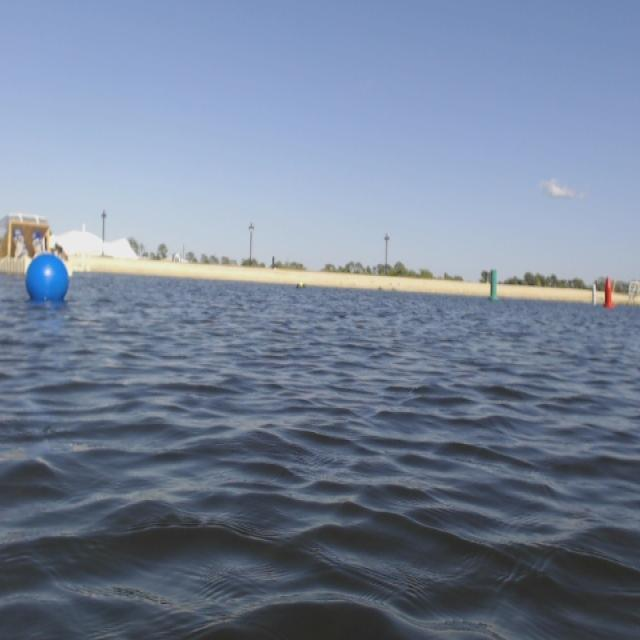Green_Buoy: (486, 272, 500, 300)
Red_Buoy: (604, 279, 616, 307)
White_Buoy: (582, 283, 600, 314)
